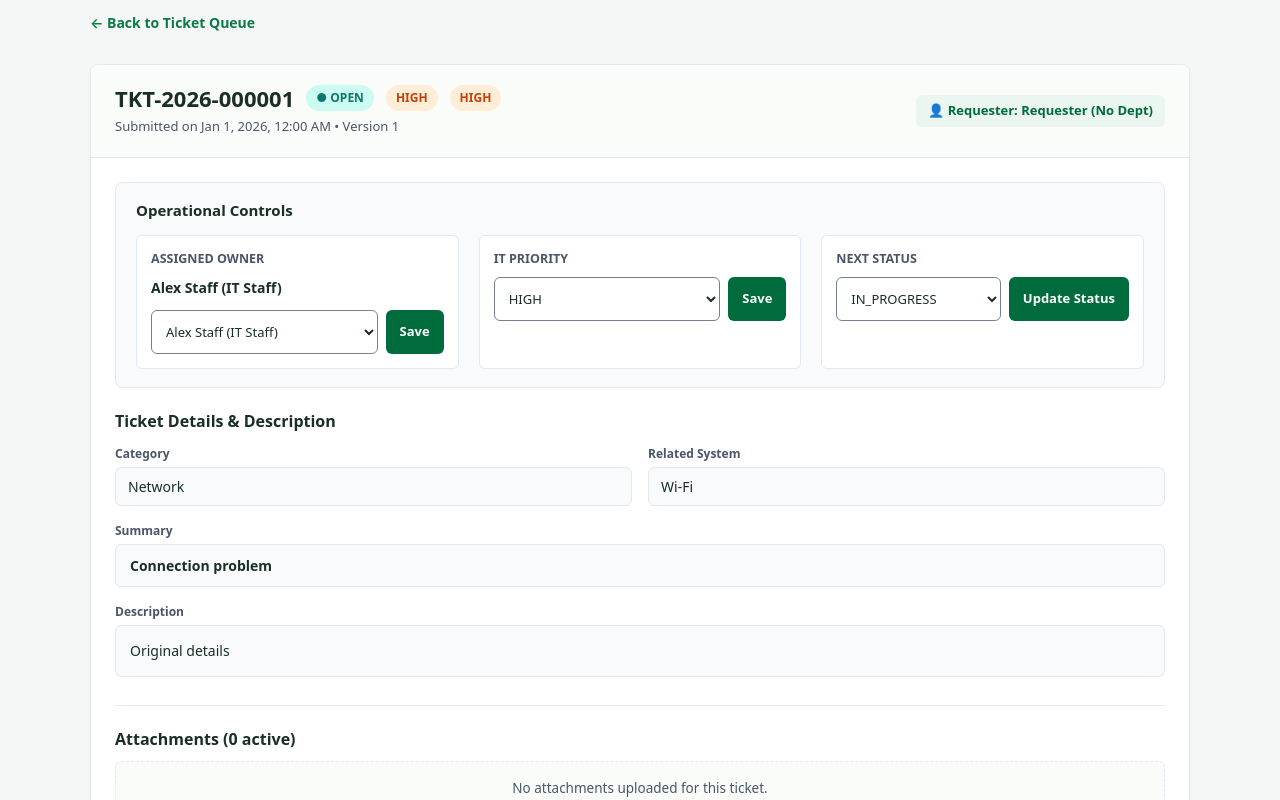
it: Lab 4 workflow feedback and public history › retains the stale-write conflict behavior for genuine version conflicts
This screenshot has width=1280, height=800.
Select "RESOLVED (Requires confirmation)" in the dropdown labelled "Next Status" at (919, 299), box top-left (836, 277), bottom-right (1001, 321)
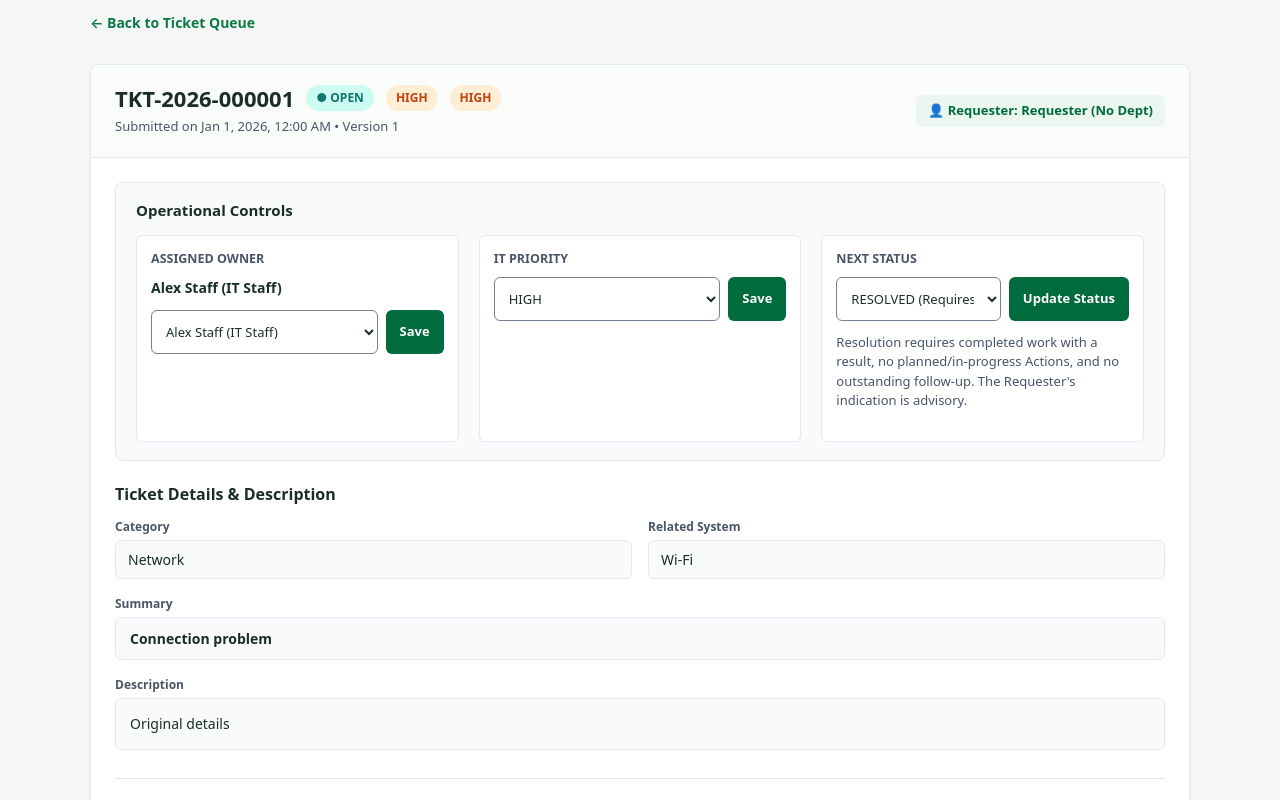
Click the button with test id "btn-save-status" at (1069, 299), box top-left (1009, 277), bottom-right (1129, 321)
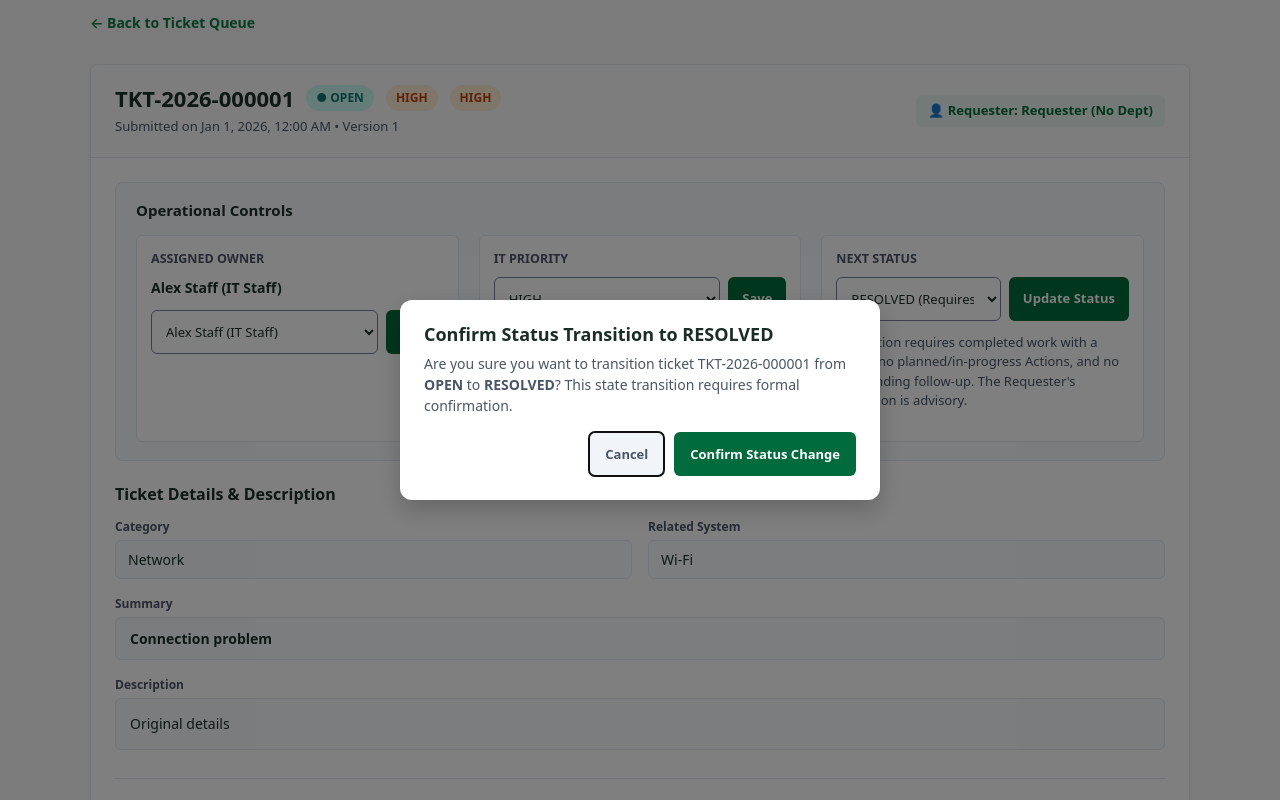
Check: the dialog is shown, box top-left (400, 300), bottom-right (880, 500)
Click the button "Confirm Status Change" at (765, 454), box top-left (674, 432), bottom-right (856, 476)
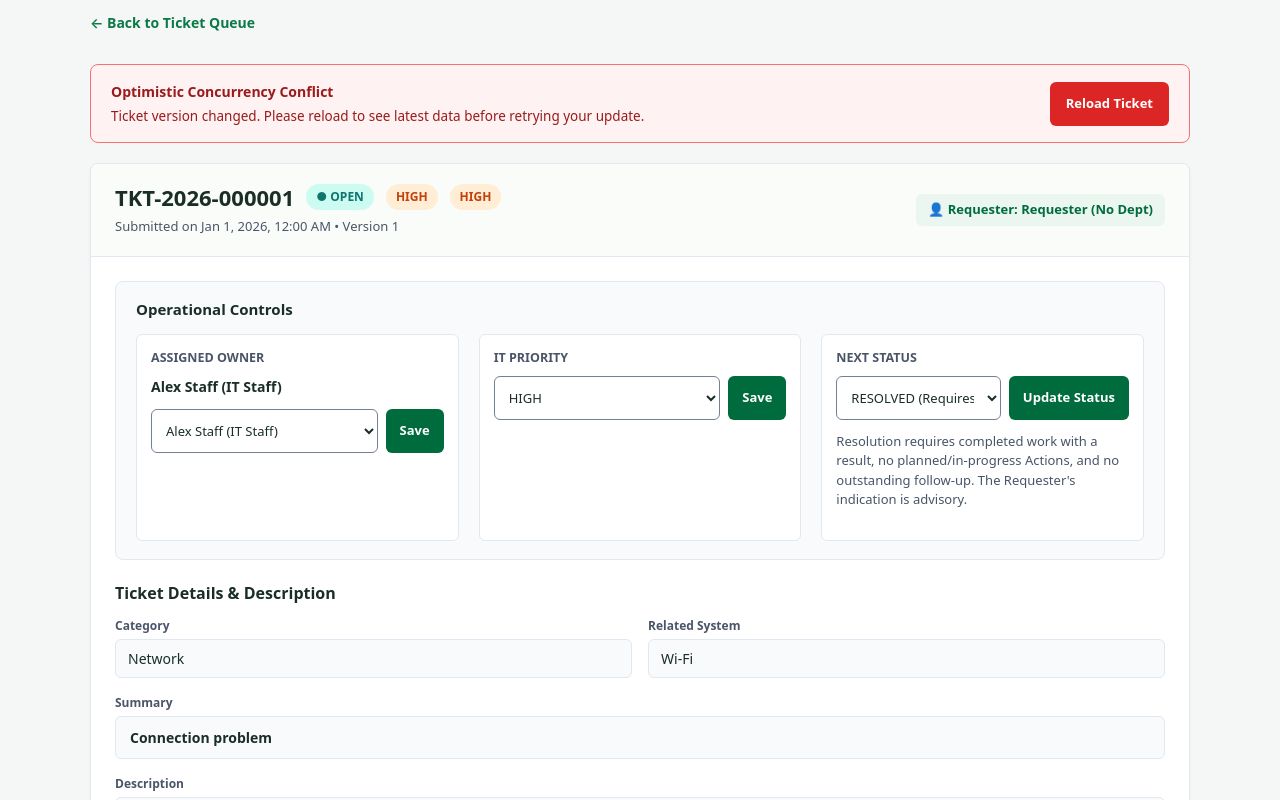
Check: the text "Ticket version changed" is shown, box top-left (111, 107), bottom-right (257, 125)
Check: the dialog is gone
